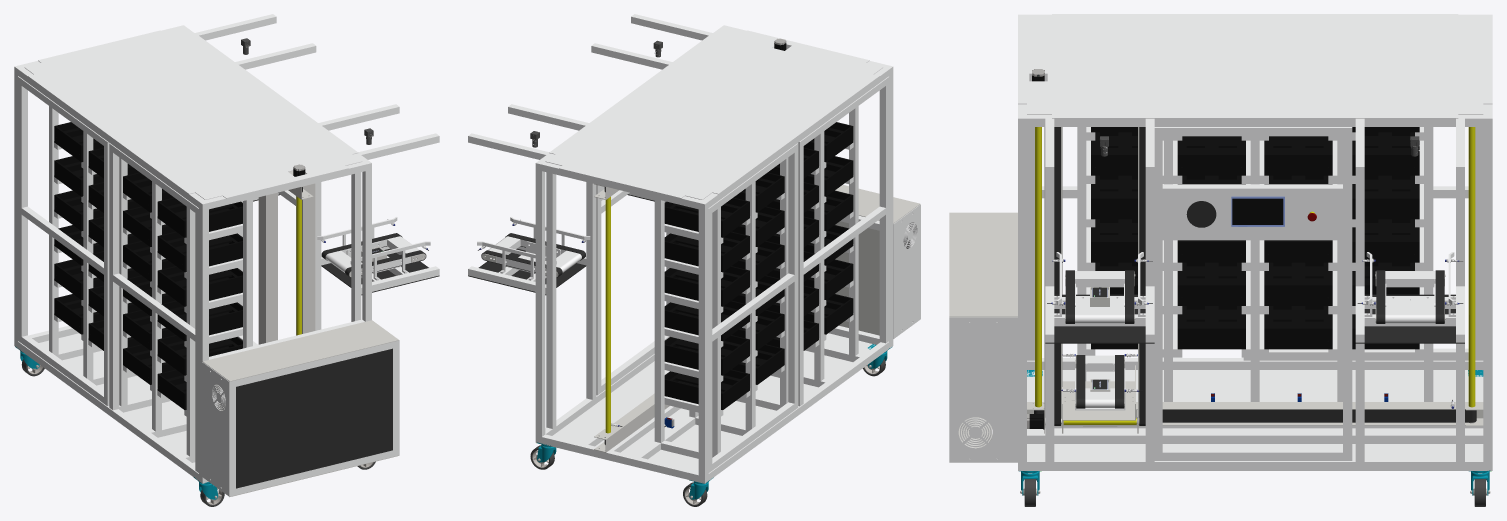
The picture shows the model from 3 angles, left to right: view 1: azimuth 30°, elevation 25°; view 2: azimuth 150°, elevation 25°; view 3: azimuth 270°, elevation 25°; orthographic projection. The views are drawn at different scales.
Parts seen in each view (by area): view 1: body, crane, box_12, box_8, box_4, box_16, box_20, box_9, box_21, box_17, box_5, box_1 (+13 smaller); view 2: body, box_21, box_9, box_17, box_5, box_1, box_13, box_10, box_22, box_6, box_18, box_12 (+7 smaller); view 3: body, crane, crane_002, box_22, box_23, box_19, box_18, box_6, box_7, box_9, box_13, box_5 (+8 smaller).
Part boxes in pixels (x1,y1,x2,y2): body: (14, 14, 439, 506); crane: (258, 173, 315, 344); box_12: (157, 266, 242, 306); box_8: (157, 231, 242, 272); box_4: (157, 197, 242, 237); box_16: (157, 300, 242, 341); box_20: (157, 335, 242, 375); box_9: (54, 190, 103, 231); box_21: (54, 294, 103, 334); box_17: (54, 259, 103, 299); box_5: (54, 156, 103, 196); box_1: (54, 122, 103, 162); body: (468, 14, 920, 506); box_21: (664, 369, 749, 409); box_9: (664, 266, 749, 306); box_17: (664, 335, 749, 375); box_5: (664, 231, 749, 272); box_1: (664, 197, 749, 237); box_13: (664, 300, 749, 341); box_10: (732, 241, 784, 281); box_22: (732, 344, 784, 384); box_6: (732, 206, 784, 246); box_18: (732, 310, 784, 350); box_12: (803, 190, 853, 230); body: (949, 14, 1492, 506); crane: (1027, 127, 1145, 433); crane_002: (1057, 353, 1142, 420); box_22: (1264, 306, 1332, 349); box_23: (1177, 306, 1245, 349); box_19: (1177, 262, 1245, 305); box_18: (1264, 262, 1332, 305); box_6: (1264, 136, 1332, 175); box_7: (1177, 136, 1245, 175); box_9: (1352, 175, 1419, 219); box_13: (1352, 219, 1419, 262); box_5: (1352, 132, 1419, 175).
Size of the model in its own units: 158 by 191 by 238.
